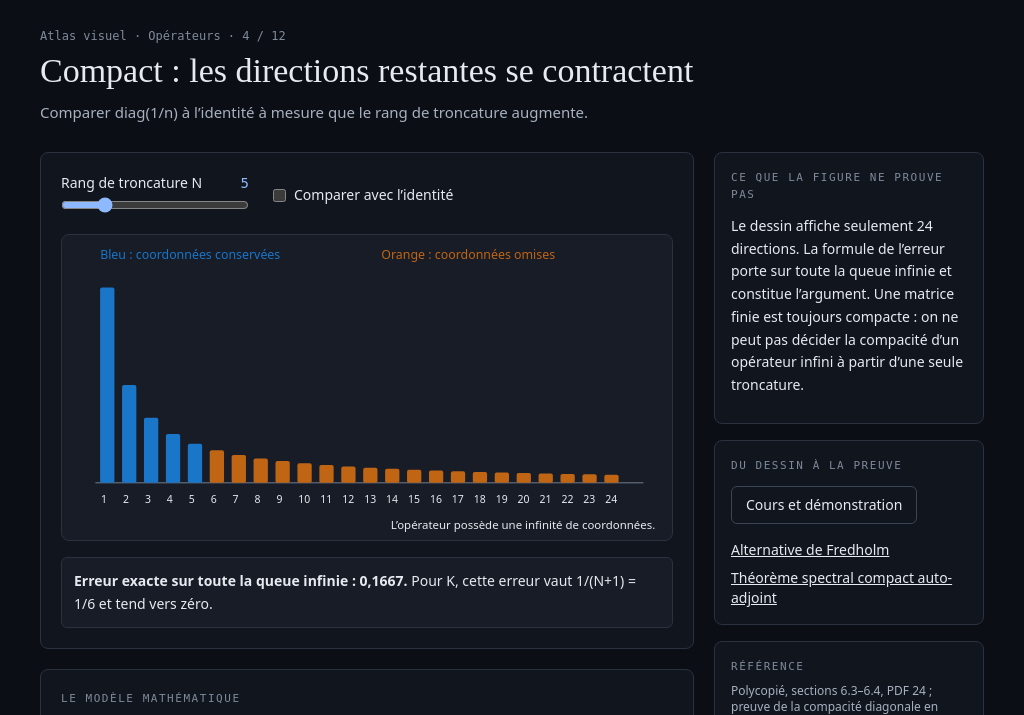
Test: Parcours pédagogique opérateurs › change le rang, compare l’identité, puis révèle une explication
Set the slider labelled "Rang de troncature N 5" to "9" at (141, 205), box [61,197,249,213]
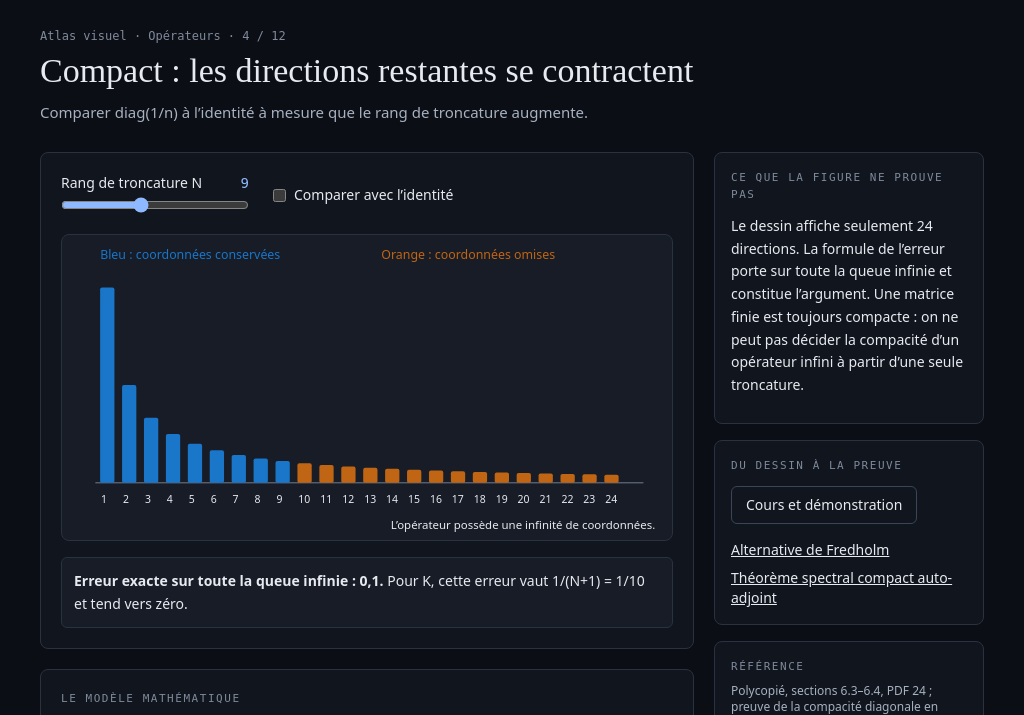
Result: the message with test id "operator-scene-result" shows "1/10" at [74,571,645,613]
Click the checkbox at (280, 195), box [273,189,286,202]
(page scrolled)
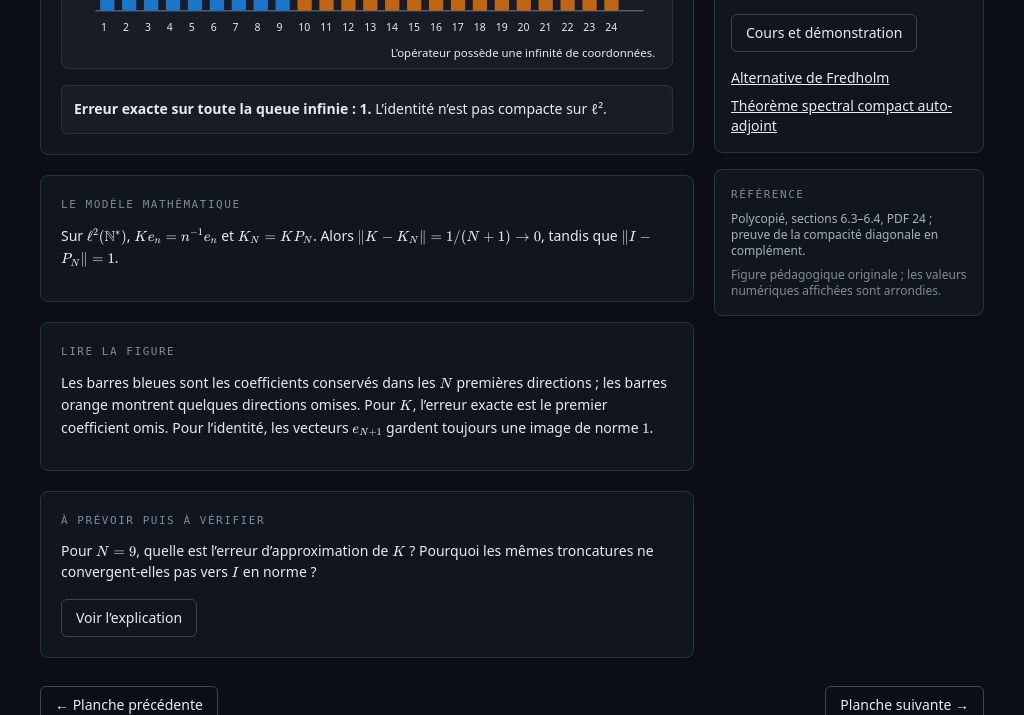
Result: the message with test id "operator-scene-result" shows "L’identité n’est pas compacte" at [375,99,607,118]
Click the button "Voir l’explication" at (129, 618), box [61,599,197,637]
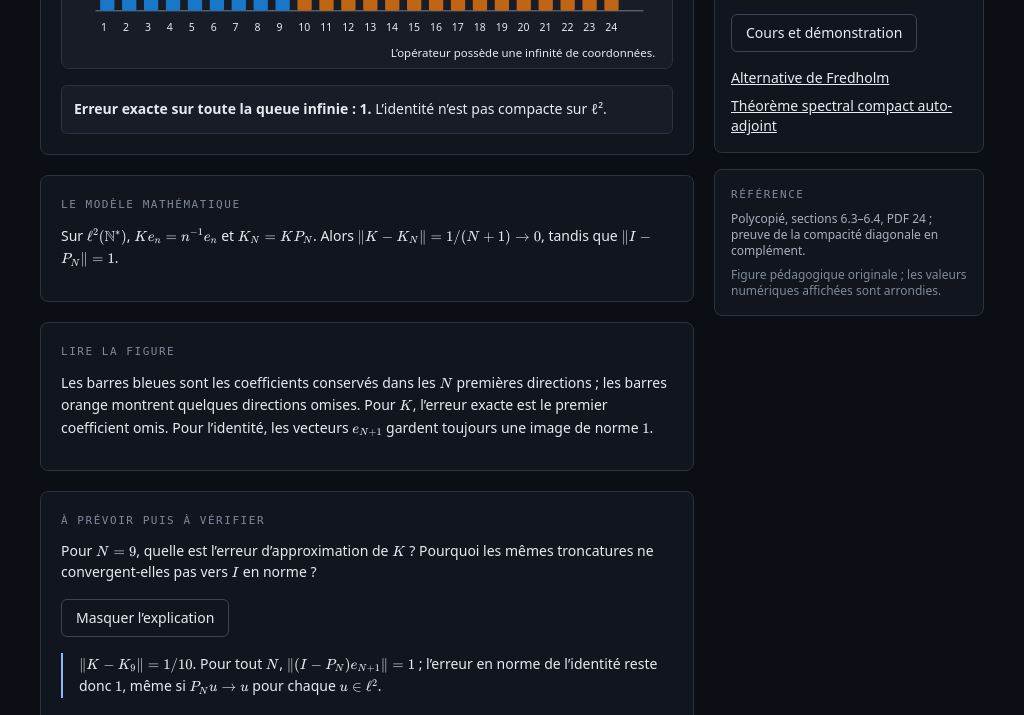
Result: the button "Masquer l’explication" is expanded at [61,599,229,637]
